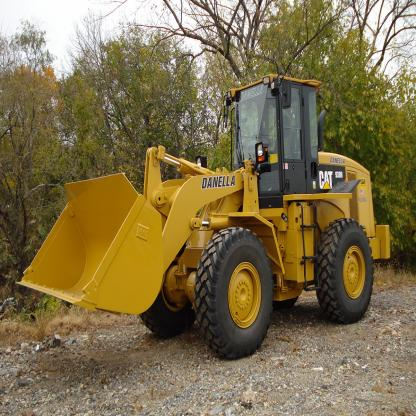bull_dozer/loader/grader: (27, 43, 397, 361)
